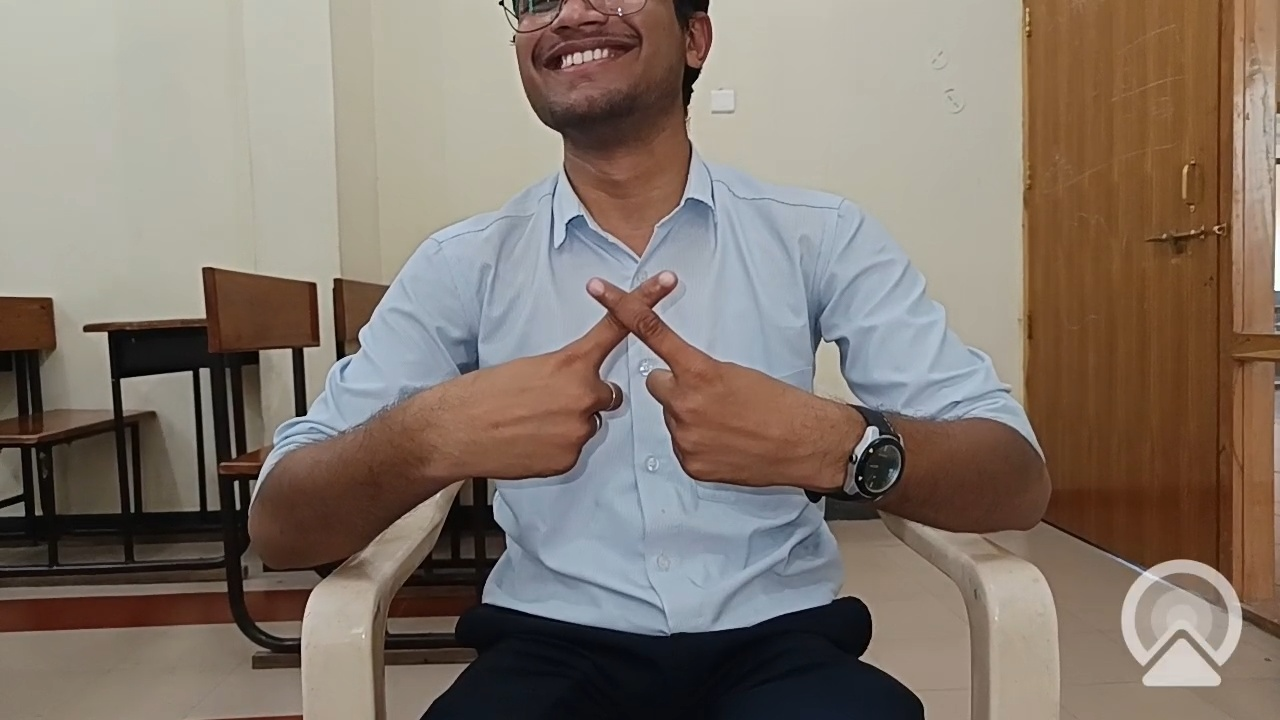X: (361, 252, 843, 565)
